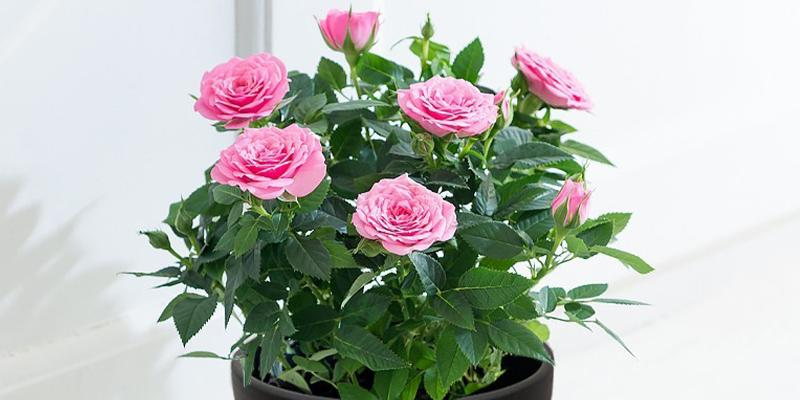Rose: (176, 49, 314, 125), (353, 171, 461, 262), (222, 120, 328, 212), (399, 69, 503, 149), (510, 39, 597, 121), (315, 9, 391, 55), (555, 161, 598, 242)
